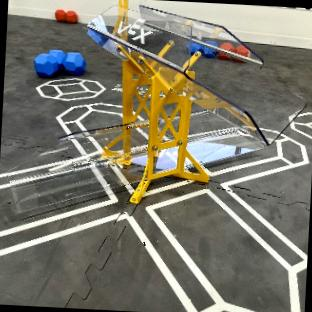Low_goal: (155, 147, 178, 169)
V5_BLUE: (34, 49, 86, 75)
